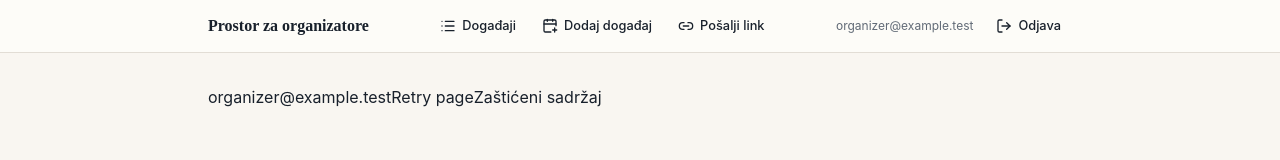
Test case: persistent organizer layout session lifecycle › logout and a second login update all mounted consumers
Click the button "Odjava".
click(1029, 26)  # box [985,12,1072,40]
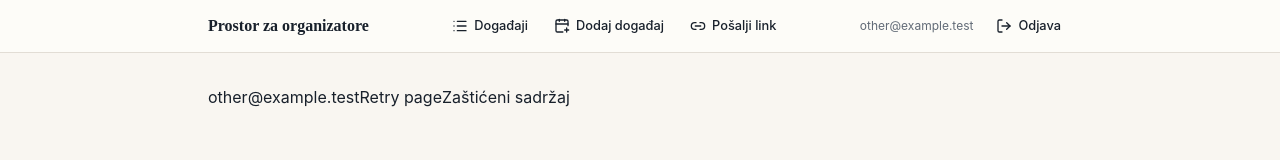
Now the text "other@example.test" is shown, box [860,18,973,34]
Now the text "organizer@example.test" is gone
